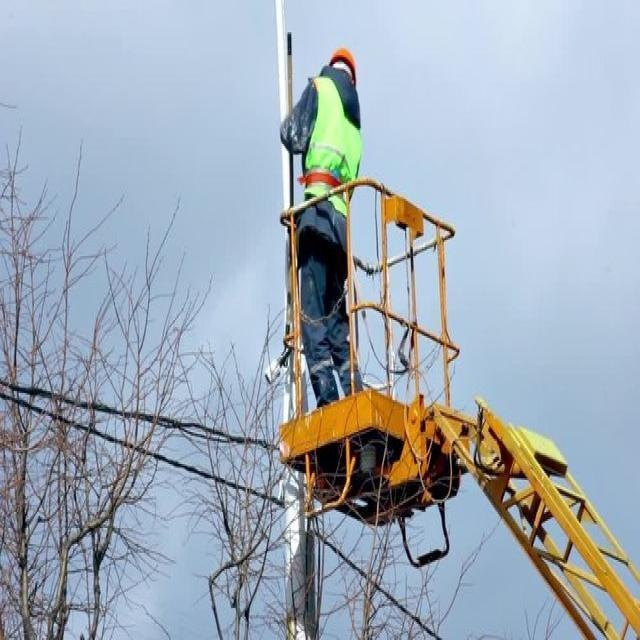Arnes_seguridad: (298, 171, 339, 188)
